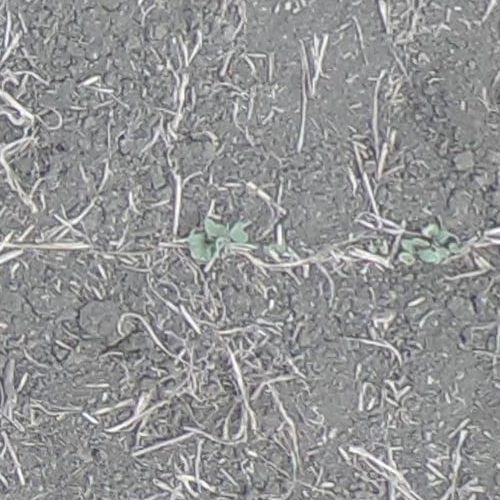plant: (186, 217, 252, 262), (399, 224, 460, 266)
